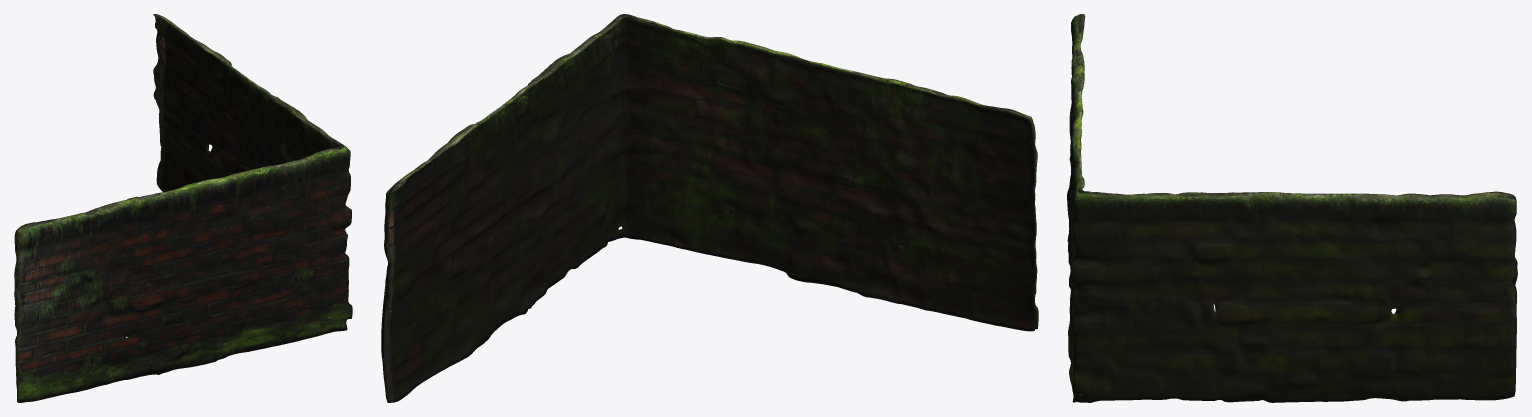
File: Mossy_dark_brick_wall_0422115716_refine.fbx
3 renders of one model, left to right at view 1: azimuth 30°, elevation 25°; view 2: azimuth 150°, elevation 25°; view 3: azimuth 270°, elevation 25°, orthographic. The views are drawn at different scales.
Visible parts, largest first — view 1: Mesh1; view 2: Mesh1; view 3: Mesh1.
Boxes of the visible parts, <box> form: Mesh1: <box>14,14,352,402</box>; Mesh1: <box>381,14,1038,402</box>; Mesh1: <box>1067,14,1517,402</box>.
Bounding box in the file's own units: 200 × 103 × 200.
1 material, 1 textured.
